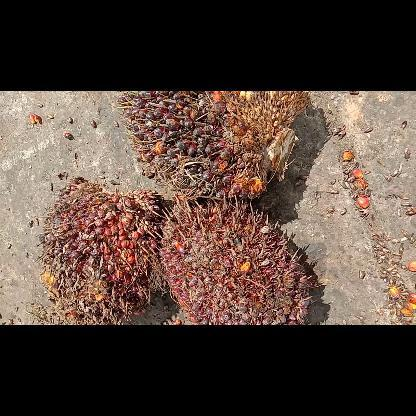Kurang masak: (35, 176, 159, 324)
TBS masak: (117, 90, 310, 202), (156, 198, 314, 324)
